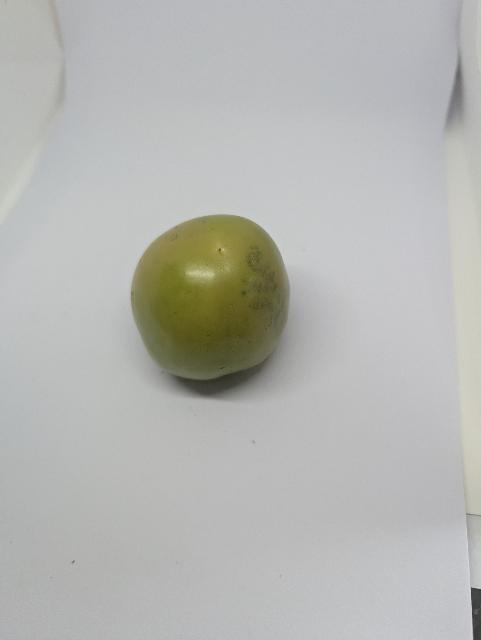green: (104, 195, 312, 436)
